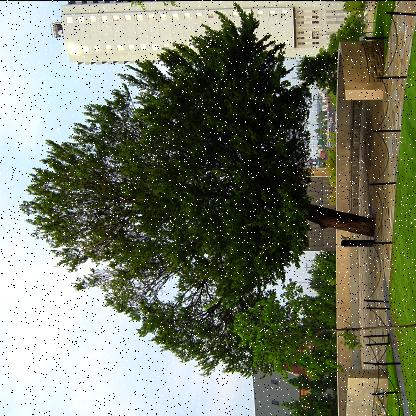Tree: (20, 9, 382, 375), (231, 286, 416, 378), (288, 292, 336, 340), (294, 48, 340, 89), (308, 248, 338, 294), (288, 346, 334, 376), (279, 390, 334, 415), (284, 365, 334, 390), (322, 144, 338, 206), (327, 30, 367, 50), (336, 20, 374, 41), (340, 12, 376, 28), (339, 1, 378, 13)
